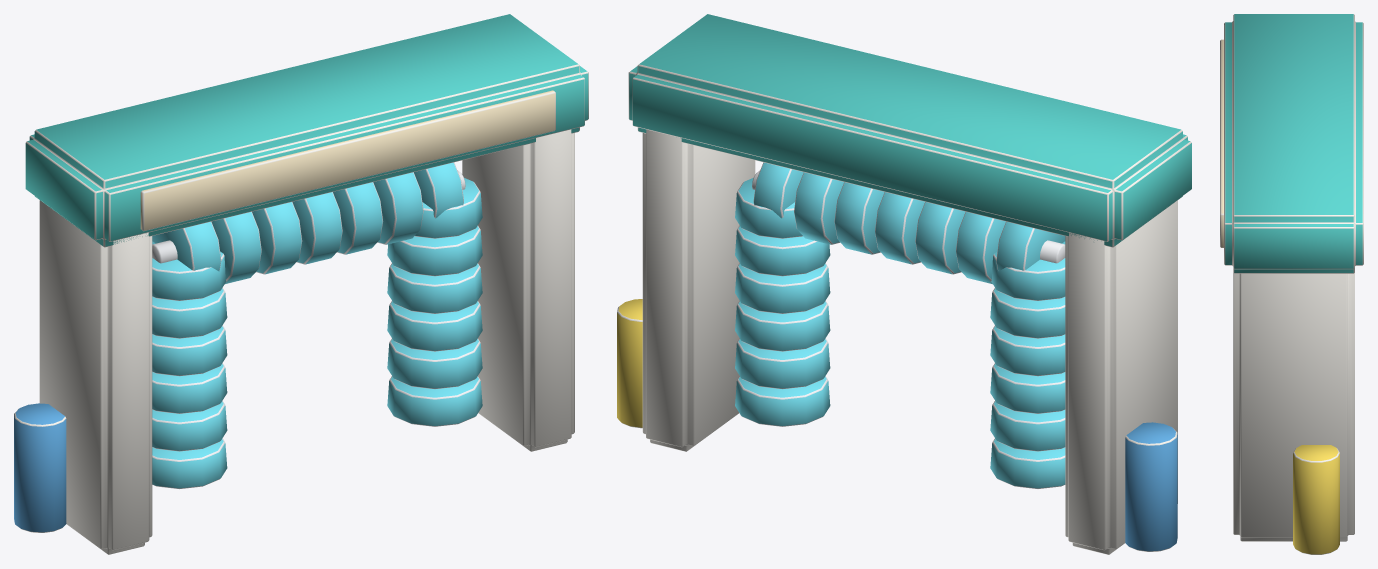
Rendered from OW_CarWashGantry.fbx.
The picture shows the model from 3 angles, left to right: view 1: azimuth 30°, elevation 25°; view 2: azimuth 150°, elevation 25°; view 3: azimuth 270°, elevation 25°; orthographic projection. The views are drawn at different scales.
Visible parts, largest first — view 1: GantryArch, BrushRollerR, TopBrushRoller, BrushRollerL; view 2: GantryArch, BrushRollerR, TopBrushRoller, BrushRollerL; view 3: GantryArch.
Part boxes in pixels (left/top/right/bottom): GantryArch: left=14, top=14, right=588, bottom=554; BrushRollerR: left=387, top=178, right=482, bottom=426; TopBrushRoller: left=152, top=162, right=465, bottom=283; BrushRollerL: left=152, top=241, right=227, bottom=489; GantryArch: left=617, top=14, right=1191, bottom=554; BrushRollerR: left=735, top=178, right=830, bottom=426; TopBrushRoller: left=752, top=162, right=1065, bottom=284; BrushRollerL: left=990, top=241, right=1065, bottom=488; GantryArch: left=1220, top=14, right=1363, bottom=554.
Size of the model in its own units: 615 by 404 by 160.
